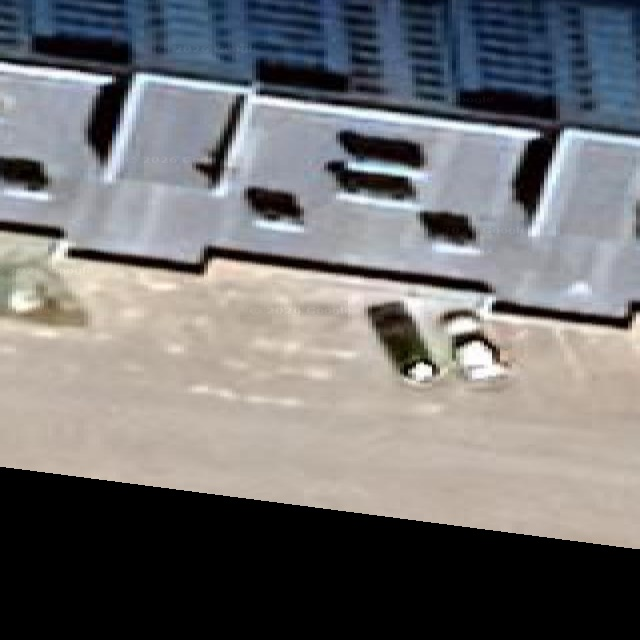car: (368, 302, 449, 383), (0, 252, 87, 325), (438, 310, 508, 381), (326, 160, 415, 199), (337, 130, 424, 168), (245, 187, 303, 224), (419, 211, 476, 245), (0, 157, 49, 190)
